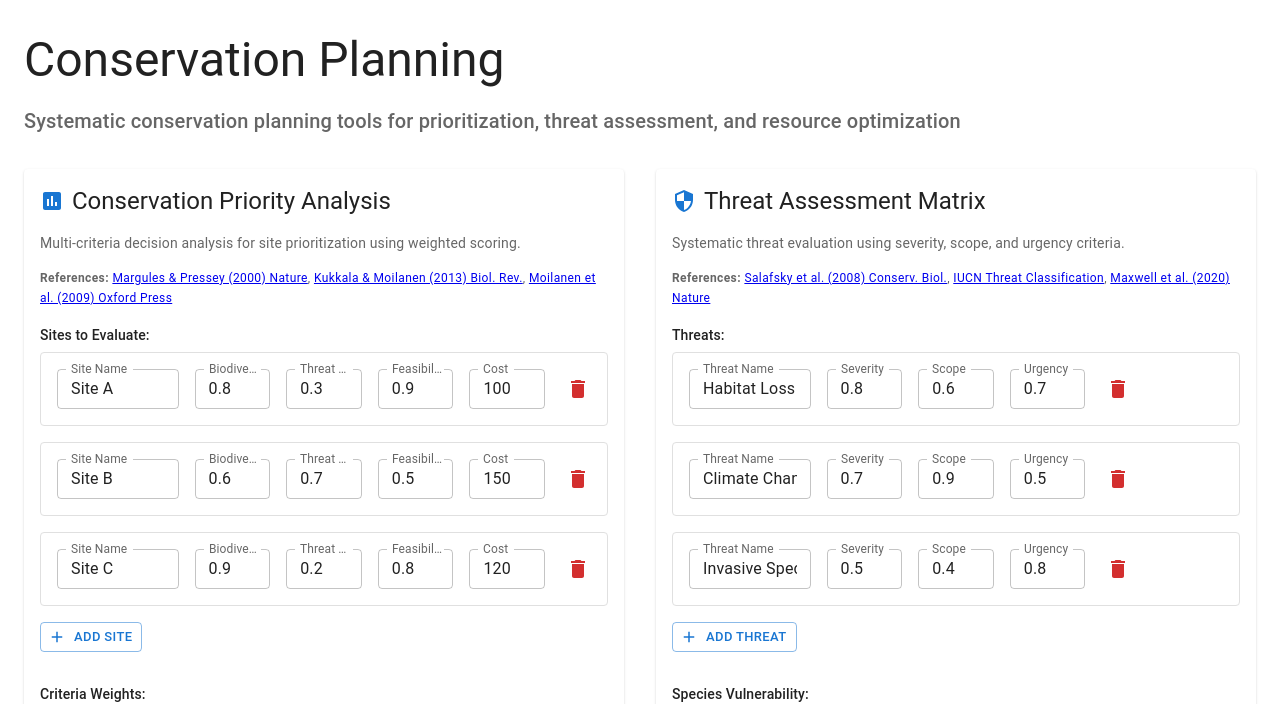
Scenario: ConservationPlanning Component › can add and remove priority sites
The image size is (1280, 704).
// Add a site - use getAllByText to get the first "Add Site" button
Step 1. Click the button "Add Site" → (91,637), box [40, 622, 142, 652]
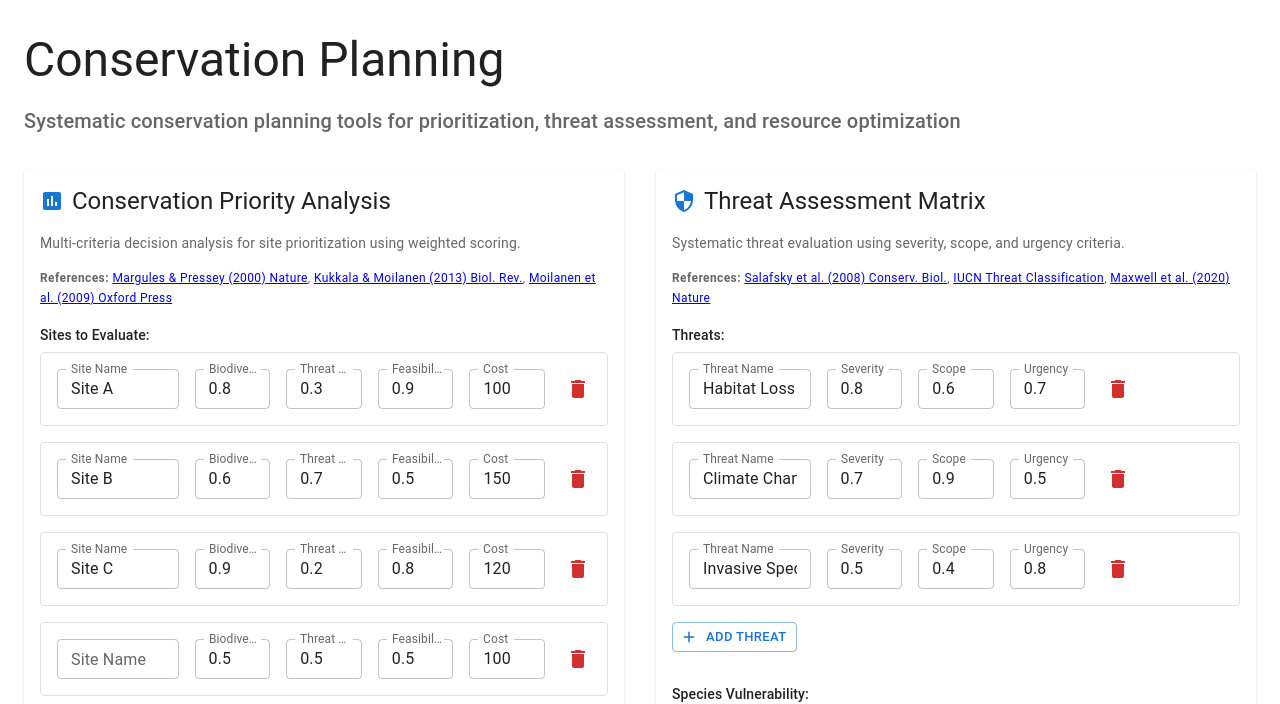
expect the number of fields labelled "Site Name" is 8: met
// Remove a site (but should not go below minimum)
Step 2. Click the button with test id "DeleteIcon" → (578,388), box [561, 372, 595, 406]
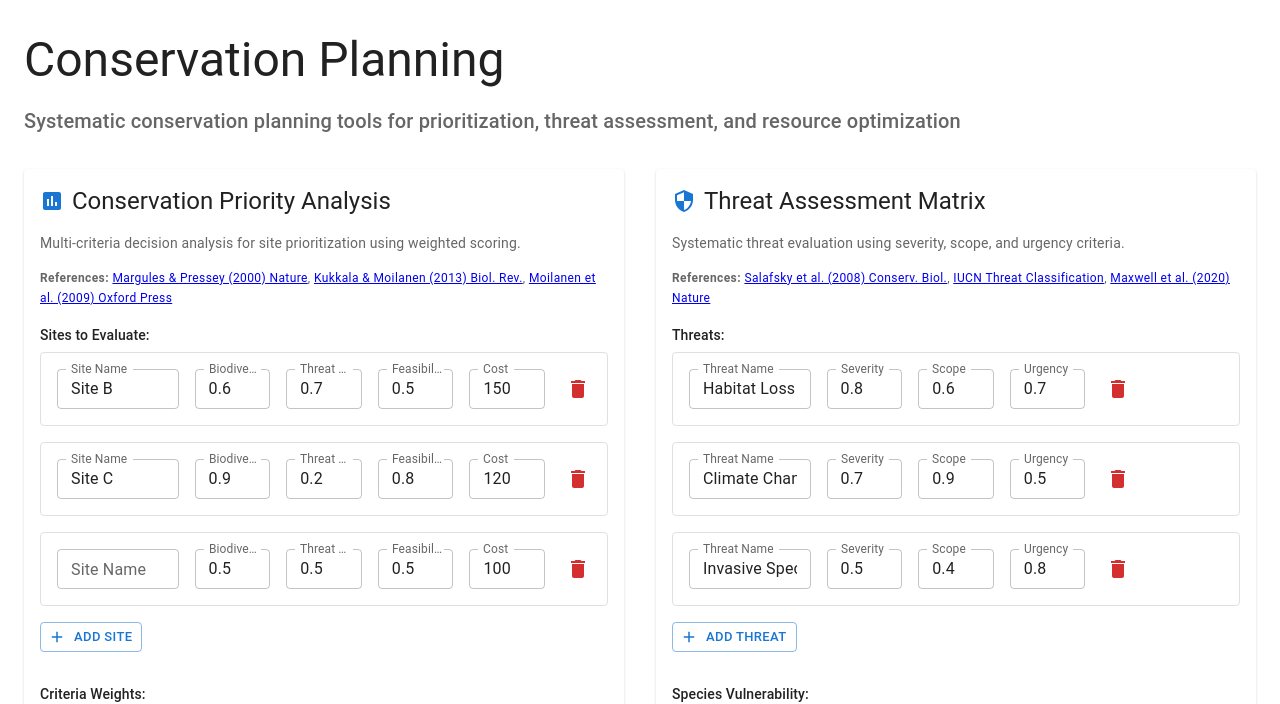
expect the number of fields labelled "Site Name" is 7: met
